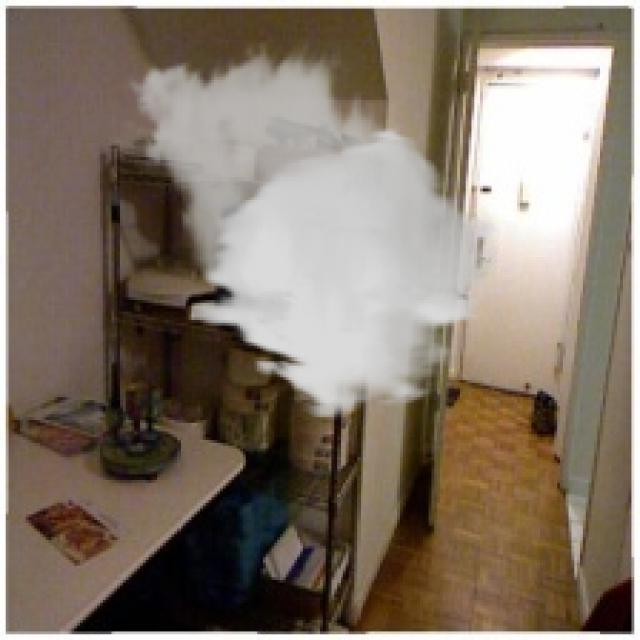Smoke: (120, 40, 497, 420)
